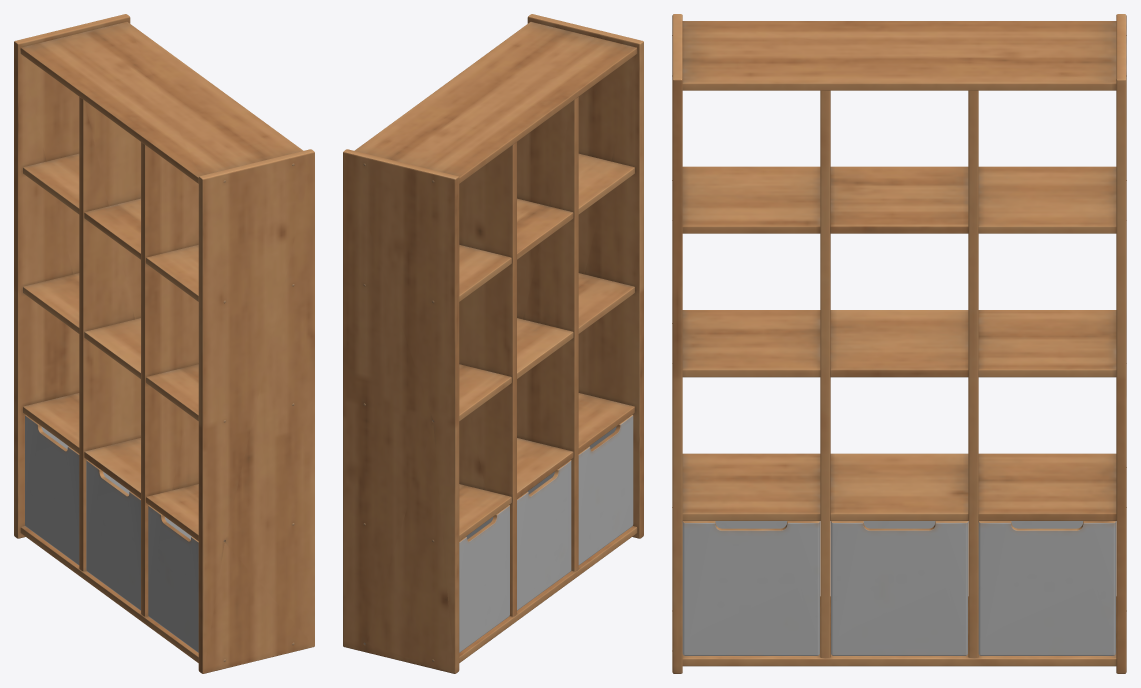
File: shelf_display.glb
The picture shows the model from 3 angles, left to right: view 1: azimuth 30°, elevation 25°; view 2: azimuth 150°, elevation 25°; view 3: azimuth 270°, elevation 25°; orthographic projection. The views are drawn at different scales.
Visible parts, largest first — view 1: mesh; view 2: mesh; view 3: mesh.
Part boxes in pixels (x1,y1,x2,y2): mesh: (14, 14, 314, 673); mesh: (343, 14, 643, 673); mesh: (672, 14, 1126, 673).
Size of the model in its own units: 0.3714 by 1.56 by 1.08.
Materials: 1 (1 with a texture image).
